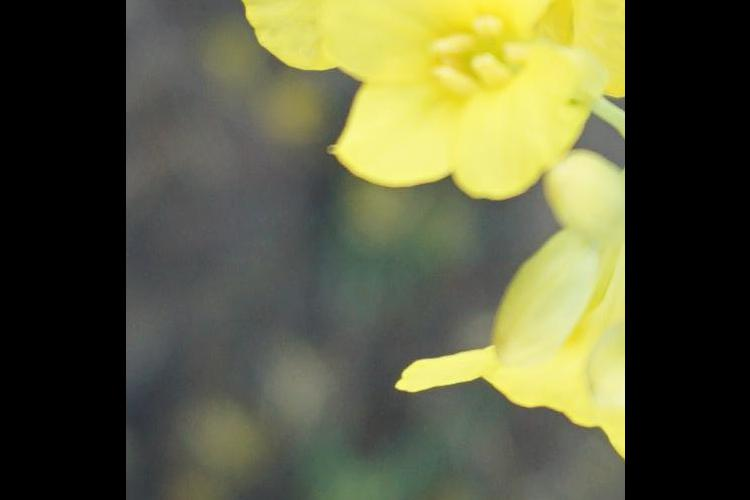bud: (496, 236, 595, 373), (549, 147, 613, 239), (581, 309, 621, 443)
yellow: (341, 1, 592, 191), (243, 1, 435, 62)
